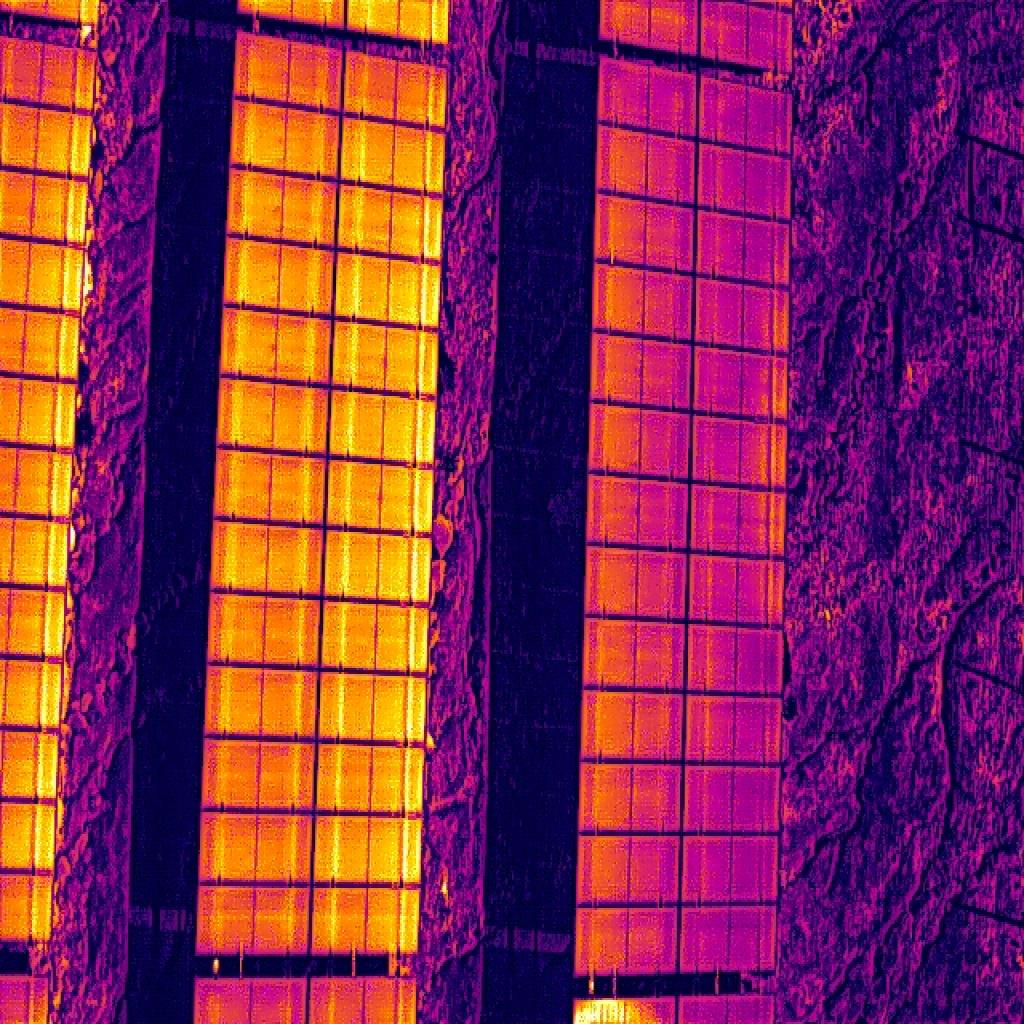panel: (222, 238, 336, 315), (341, 51, 449, 131), (209, 593, 322, 668), (596, 195, 696, 275), (313, 745, 424, 815), (591, 332, 692, 408), (692, 484, 788, 556), (687, 625, 782, 694), (684, 766, 782, 831)
